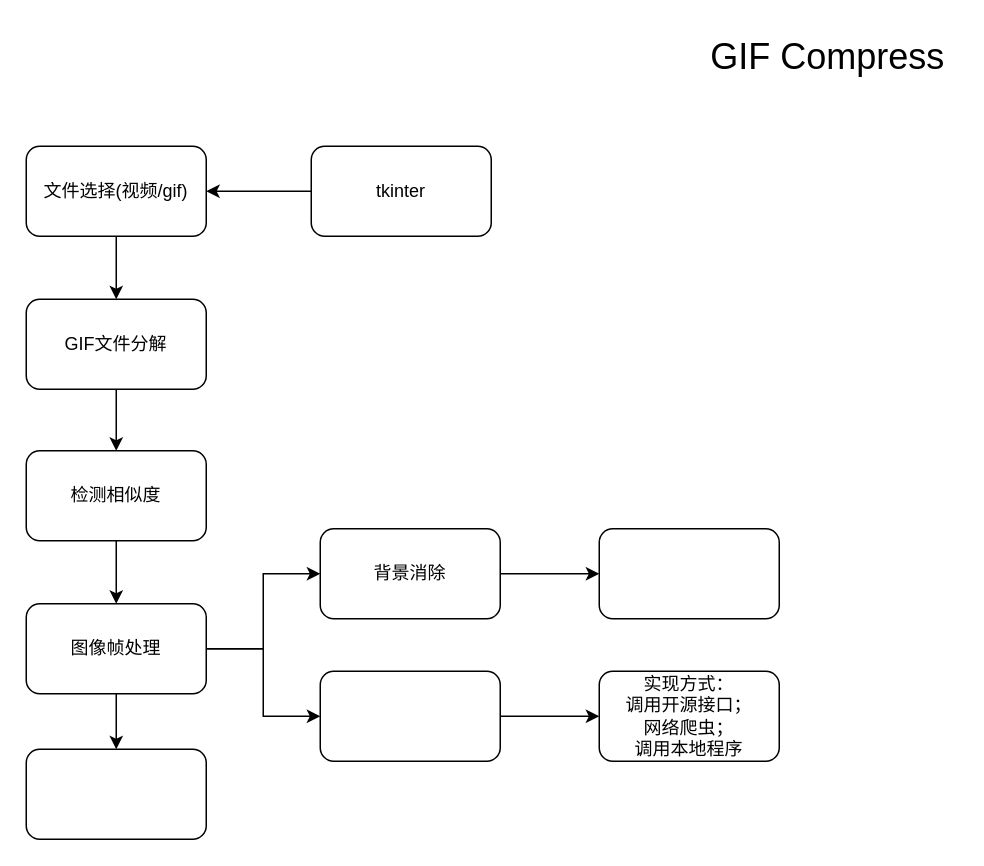
Image size: 984x866. Some labels were removed from this diagram. Here are the shapes that lost their labels. From the top down, the centre of each, then its label:
At pixel 688 573: "实现方式： 调用开源接口； 网络爬虫； rembg库 √".
At pixel 409 715: "模糊度处理".
At pixel 115 793: "输出合成gif/图像帧".
